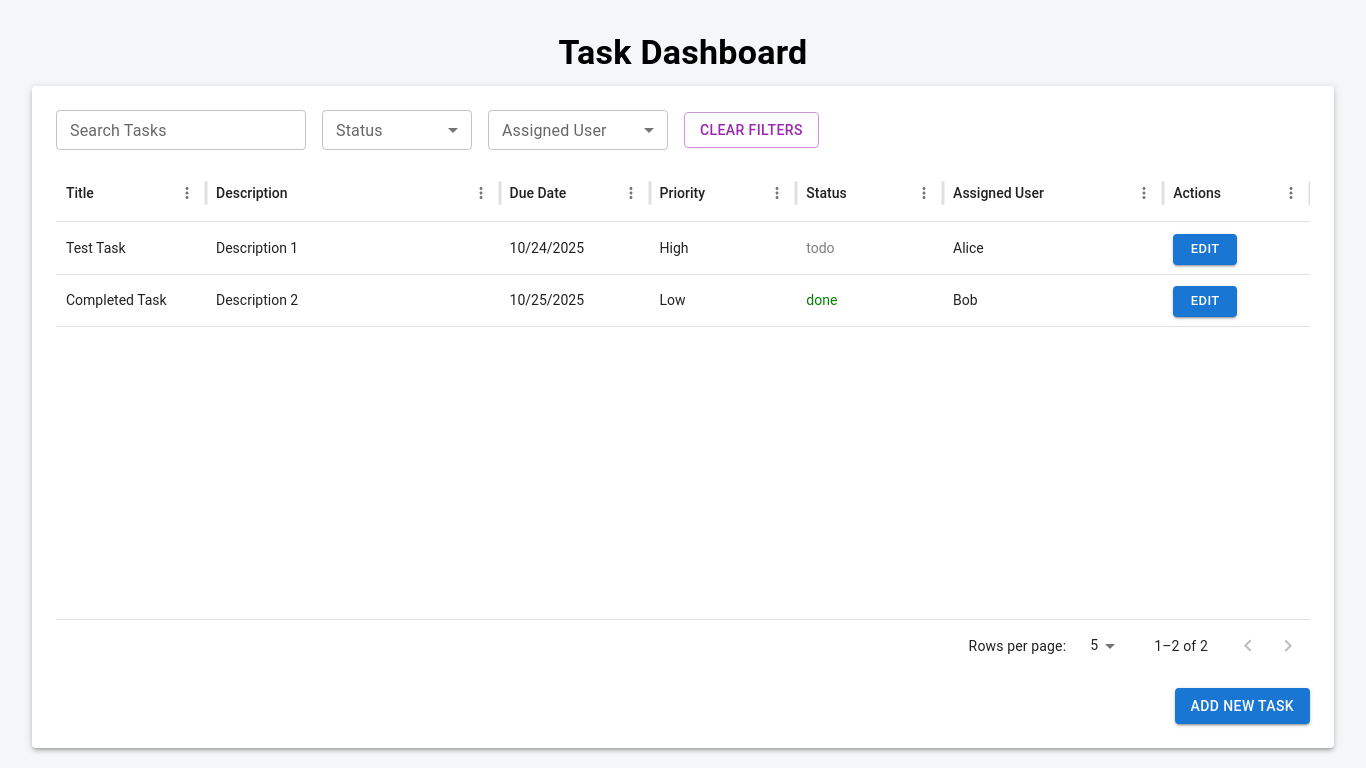
Test: Dashboard Component › filters tasks by search term
Expected: the text "Test Task" is shown, [66,240,126,256]
Step 1. Type "Completed" into the field with placeholder "Search by Title" → (181, 130), box [56,110,306,150]
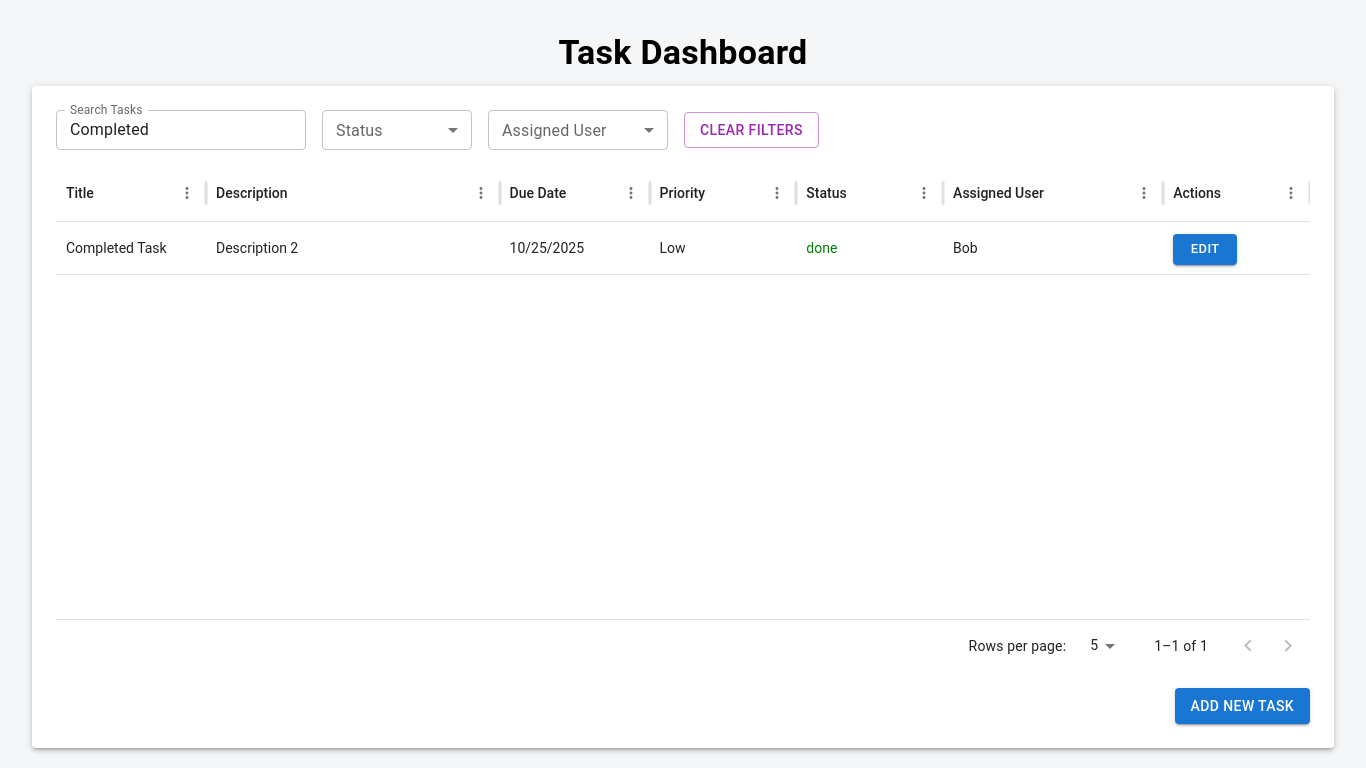
Expected: the text "Completed Task" is shown, [66,240,167,256]
Now the text "Test Task" is gone
